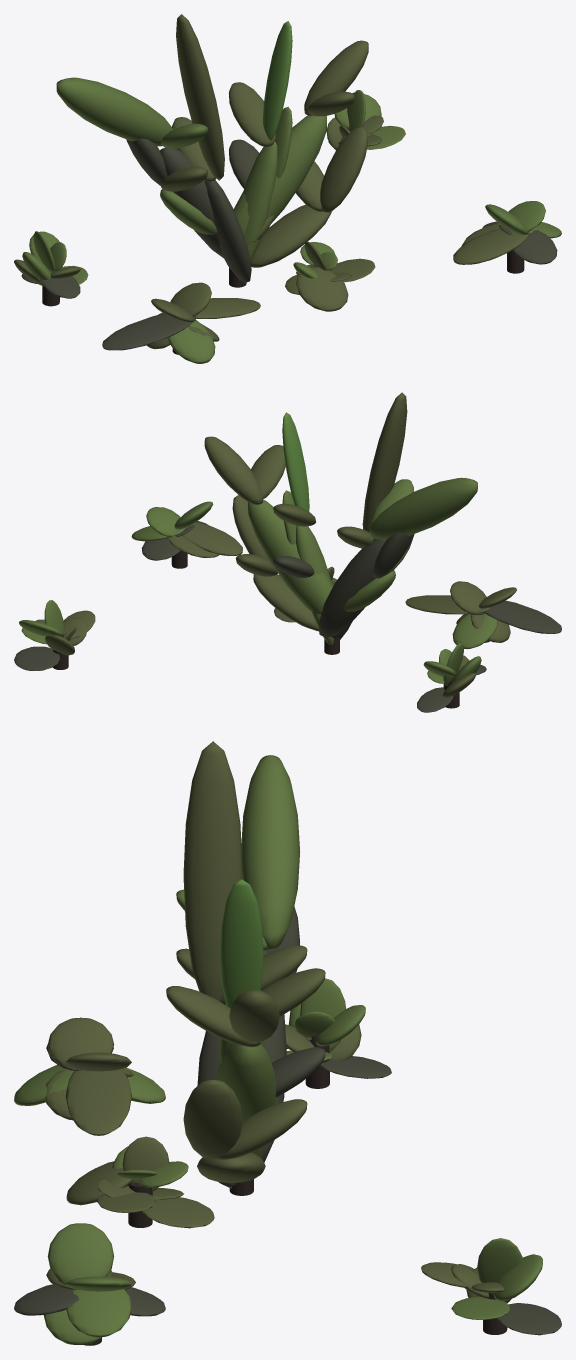
Rendered from CMU3DRMCBusha3.glb.
The picture shows the model from 3 angles, top to bottom: view 1: azimuth 30°, elevation 25°; view 2: azimuth 150°, elevation 25°; view 3: azimuth 270°, elevation 25°; orthographic projection. The views are drawn at different scales.
Parts seen in each view (by area): view 1: main blade 1 section 1, main blade 0 section 1, main blade 3 section 0, main blade 4 section 0, main blade 4 section 1, main blade 2 section 0, main blade 0 section 0, main blade 2 section 1, main blade 3 section 1, tuft 2 source leaf 0, main blade 2 depth leaf, tuft 3 source leaf 5 (+25 smaller); view 2: main blade 1 section 1, main blade 3 section 0, main blade 0 section 1, main blade 1 section 0, main blade 3 section 1, main blade 2 section 1, main blade 4 section 0, tuft 2 source leaf 0, tuft 4 source leaf 0, main blade 3 depth leaf, main blade 2 section 0, tuft 2 source leaf 5 (+22 smaller); view 3: main blade 0 section 1, main blade 1 section 1, main blade 2 section 1, main blade 4 section 1, tuft 2 source leaf 3, tuft 4 source leaf 6, main blade 3 section 0, tuft 4 source leaf 3, main blade 4 depth leaf, main blade 3 depth leaf, tuft 2 source leaf 6, main blade 3 section 1 (+26 smaller).
Boxes of the visible parts, x1,y1,x2,y2 form: main blade 1 section 1: (56, 77, 173, 146); main blade 0 section 1: (176, 14, 224, 180); main blade 3 section 0: (233, 115, 326, 235); main blade 4 section 0: (250, 204, 331, 267); main blade 4 section 1: (320, 127, 367, 212); main blade 2 section 0: (244, 141, 277, 261); main blade 0 section 0: (204, 180, 251, 282); main blade 2 section 1: (262, 21, 292, 140); main blade 3 section 1: (304, 40, 368, 115); tuft 2 source leaf 0: (102, 313, 196, 350); main blade 2 depth leaf: (228, 82, 275, 146); tuft 3 source leaf 5: (296, 267, 348, 311); main blade 1 section 1: (370, 477, 477, 540); main blade 3 section 0: (248, 500, 332, 614); main blade 0 section 1: (362, 392, 407, 532); main blade 1 section 0: (319, 538, 385, 636); main blade 3 section 1: (204, 436, 262, 504); main blade 2 section 1: (282, 412, 309, 511); main blade 4 section 0: (253, 574, 318, 631); tuft 2 source leaf 0: (484, 600, 561, 633); tuft 4 source leaf 0: (182, 522, 242, 555); main blade 3 depth leaf: (247, 445, 285, 502); main blade 2 section 0: (296, 525, 333, 644); tuft 2 source leaf 5: (452, 614, 497, 649); main blade 0 section 1: (183, 741, 242, 1001); main blade 1 section 1: (241, 755, 299, 948); main blade 2 section 1: (220, 879, 263, 1007); main blade 4 section 1: (183, 1080, 242, 1158); tuft 2 source leaf 3: (65, 1069, 131, 1135); tuft 4 source leaf 6: (47, 1223, 114, 1284); main blade 3 section 0: (217, 1043, 275, 1121); tuft 4 source leaf 3: (66, 1289, 131, 1337); main blade 4 depth leaf: (215, 1099, 307, 1159); main blade 3 depth leaf: (166, 986, 260, 1047); tuft 2 source leaf 6: (48, 1017, 114, 1066); main blade 3 section 1: (229, 989, 279, 1042).
Bounding box in the file's own units: 0.9084 × 0.5515 × 0.6763.
